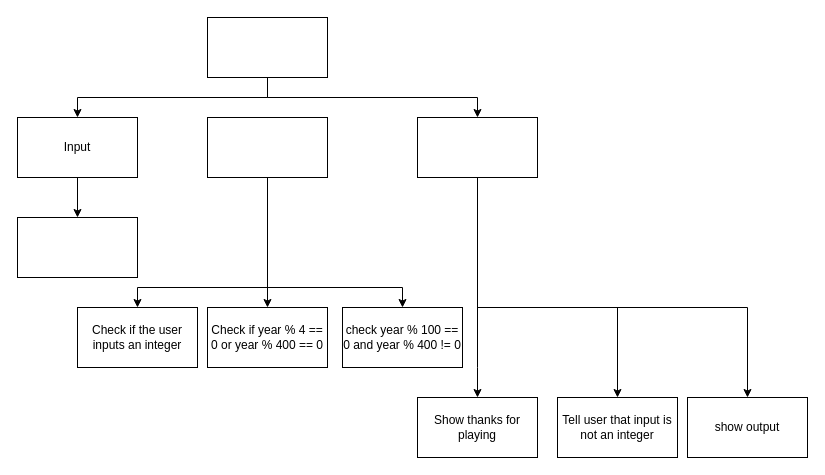
The diagram is 825 pixels wide and 475 high, and some of its shapes have lost their labels. Here are the shapes that lost their labels. From the top down, the box of each, then its label:
(206, 16, 328, 78): Random Number Guessing Game
(206, 116, 328, 178): Process
(416, 116, 538, 178): Output
(16, 216, 138, 278): Get year from user
